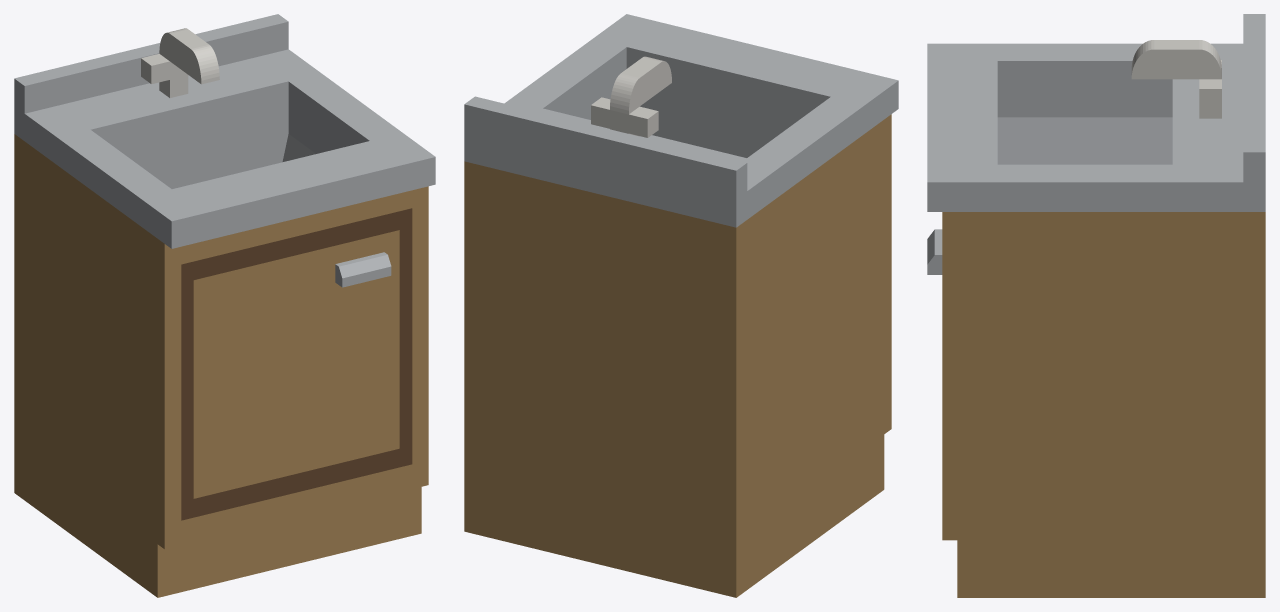
The model's file is sink_unit.glb.
3 views of the same model, side by side, from view 1: azimuth 30°, elevation 25°; view 2: azimuth 150°, elevation 25°; view 3: azimuth 270°, elevation 25° (orthographic). The views are drawn at different scales.
Visible parts, largest first — view 1: sink_unit; view 2: sink_unit; view 3: sink_unit.
Boxes of the visible parts, x1,y1,x2,y2 form: sink_unit: (14, 14, 435, 597); sink_unit: (464, 14, 898, 597); sink_unit: (927, 14, 1265, 597).
Bounding box in the file's own units: 0.6 × 0.98 × 0.62.
